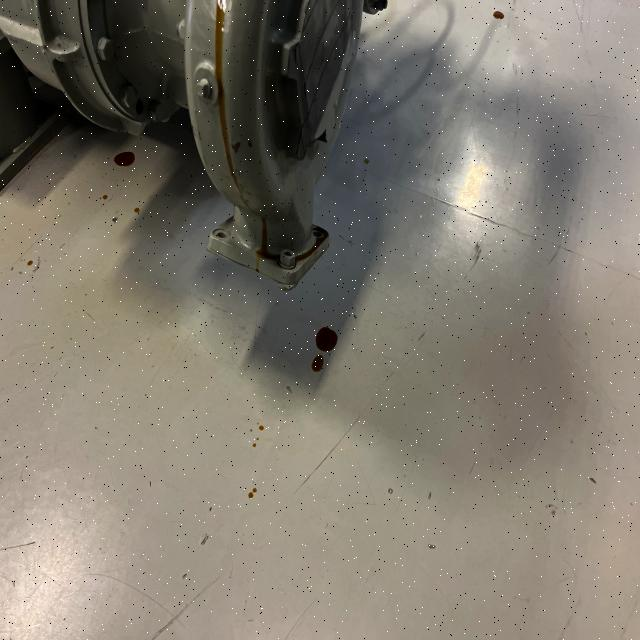Oil Leak: (202, 206, 332, 297), (212, 68, 241, 190), (311, 325, 341, 356), (113, 150, 136, 168), (216, 10, 222, 66), (310, 353, 325, 373)
